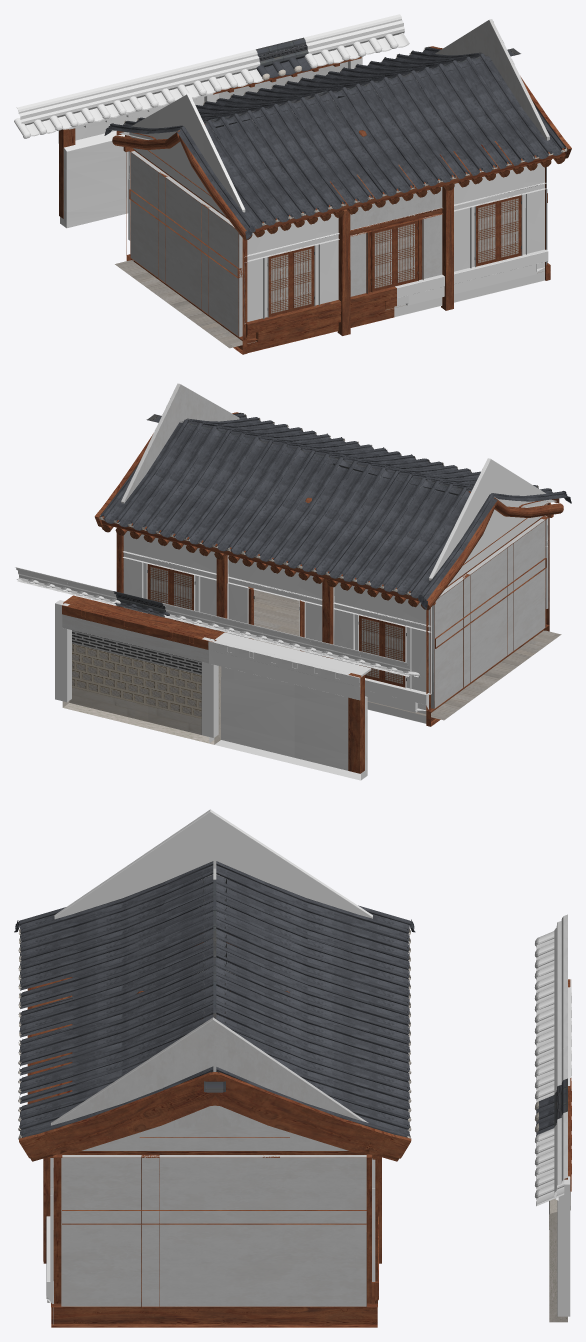
Rendered from house-minimal.fbx.
3 renders of one model, top to bottom at view 1: azimuth 30°, elevation 25°; view 2: azimuth 150°, elevation 25°; view 3: azimuth 270°, elevation 25°, orthographic. The views are drawn at different scales.
Visible parts, largest first — view 1: SM_GCG_Roof_R_1, SM_GCG_Wall_P_1, SM_GCG_StoneFence_A_1, SM_GCG_Wallframe_C, SM_GCG_Wallframe_C_1, SM_GCG_Wallframe_C_2, SM_GCG_Trianglewall_E_1, SM_GCG_Panelboard_C_1, SM_GCG_Panelboard_C, SM_GCG_Trianglewall_E, Floor, SM_GCG_Fenceroof_A_2 (+17 smaller); view 2: SM_GCG_Roof_R_1, SM_GCG_StoneFence_A, SM_GCG_StoneFence_A_1, SM_GCG_Wall_P_1, SM_GCG_Wallframe_C_4, SM_GCG_Trianglewall_E_1, SM_GCG_Wallframe_C_5, SM_GCG_Wallframe_C_3, Floor, SM_GCG_Trianglewall_E, SM_GCG_Panelboard_C_4, SM_GCG_FencePillar_A_2 (+16 smaller); view 3: SM_GCG_Roof_R_1, SM_GCG_Wall_P, SM_GCG_Trianglewall_E, SM_GCG_Trianglewall_E_1, SM_GCG_FencePillar_A_2, SM_GCG_StoneFence_A, SM_GCG_Fenceroof_A_2, SM_GCG_Fenceroof_A_4, SM_GCG_Fenceroof_A_1, SM_GCG_Fenceroof_A_9, SM_GCG_Fenceroof_A_6, SM_GCG_Fenceroof_A_7 (+3 smaller).
Part boxes in pixels (x1=…): SM_GCG_Roof_R_1: x1=104, y1=46, x2=571, y2=240; SM_GCG_Wall_P_1: x1=126, y1=135, x2=247, y2=354; SM_GCG_StoneFence_A_1: x1=58, y1=94, x2=212, y2=228; SM_GCG_Wallframe_C: x1=350, y1=187, x2=442, y2=296; SM_GCG_Wallframe_C_1: x1=454, y1=163, x2=547, y2=271; SM_GCG_Wallframe_C_2: x1=244, y1=213, x2=339, y2=323; SM_GCG_Trianglewall_E_1: x1=129, y1=93, x2=245, y2=216; SM_GCG_Panelboard_C_1: x1=394, y1=249, x2=548, y2=317; SM_GCG_Panelboard_C: x1=246, y1=286, x2=396, y2=353; SM_GCG_Trianglewall_E: x1=435, y1=19, x2=549, y2=140; Floor: x1=115, y1=260, x2=544, y2=348; SM_GCG_Fenceroof_A_2: x1=352, y1=14, x2=409, y2=56; SM_GCG_Roof_R_1: x1=94, y1=412, x2=571, y2=610; SM_GCG_StoneFence_A: x1=62, y1=595, x2=224, y2=744; SM_GCG_StoneFence_A_1: x1=208, y1=632, x2=371, y2=780; SM_GCG_Wall_P_1: x1=426, y1=501, x2=549, y2=726; SM_GCG_Wallframe_C_4: x1=333, y1=582, x2=431, y2=694; SM_GCG_Trianglewall_E_1: x1=429, y1=458, x2=547, y2=585; SM_GCG_Wallframe_C_5: x1=123, y1=531, x2=216, y2=630; SM_GCG_Wallframe_C_3: x1=227, y1=555, x2=322, y2=655; Floor: x1=254, y1=589, x2=561, y2=720; SM_GCG_Trianglewall_E: x1=121, y1=383, x2=239, y2=503; SM_GCG_Panelboard_C_4: x1=365, y1=678, x2=428, y2=723; SM_GCG_FencePillar_A_2: x1=55, y1=600, x2=71, y2=702; SM_GCG_Roof_R_1: x1=14, y1=861, x2=415, y2=1161; SM_GCG_Wall_P: x1=51, y1=1137, x2=377, y2=1327; SM_GCG_Trianglewall_E: x1=50, y1=1017, x2=368, y2=1150; SM_GCG_Trianglewall_E_1: x1=54, y1=809, x2=372, y2=919; SM_GCG_FencePillar_A_2: x1=557, y1=1176, x2=570, y2=1316; SM_GCG_StoneFence_A: x1=549, y1=1078, x2=571, y2=1322; SM_GCG_Fenceroof_A_2: x1=535, y1=1144, x2=567, y2=1206; SM_GCG_Fenceroof_A_4: x1=534, y1=980, x2=567, y2=1037; SM_GCG_Fenceroof_A_1: x1=535, y1=1078, x2=567, y2=1136; SM_GCG_Fenceroof_A_9: x1=535, y1=1111, x2=567, y2=1169; SM_GCG_Fenceroof_A_6: x1=534, y1=1013, x2=567, y2=1070; SM_GCG_Fenceroof_A_7: x1=534, y1=947, x2=567, y2=1004.
Size of what is drawn, in the model's own units: 933 by 511 by 828.
